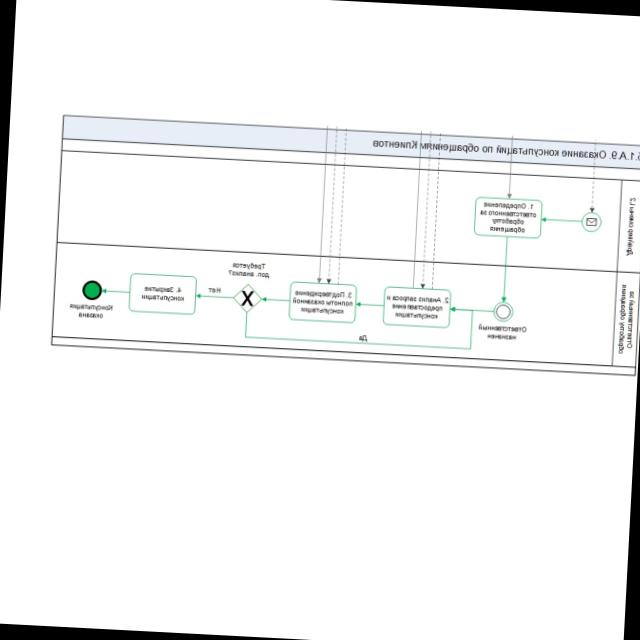arrow: (244, 295, 494, 352), (501, 237, 511, 303), (450, 305, 494, 315), (542, 216, 582, 225), (196, 292, 234, 301), (356, 300, 385, 309), (102, 288, 130, 296), (262, 297, 290, 304)
circle: (577, 208, 604, 235), (489, 299, 515, 324), (80, 279, 102, 302)
diamond: (233, 283, 263, 313)
rectangle: (287, 280, 356, 324), (382, 287, 451, 328), (128, 273, 196, 314), (474, 197, 541, 238)
text_region: (477, 323, 528, 342), (69, 301, 114, 321), (229, 261, 271, 280), (208, 286, 222, 295), (358, 334, 368, 343)
